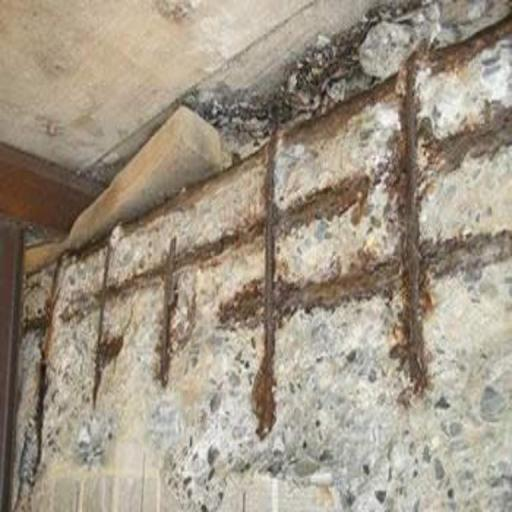spalling: (18, 6, 512, 512)
